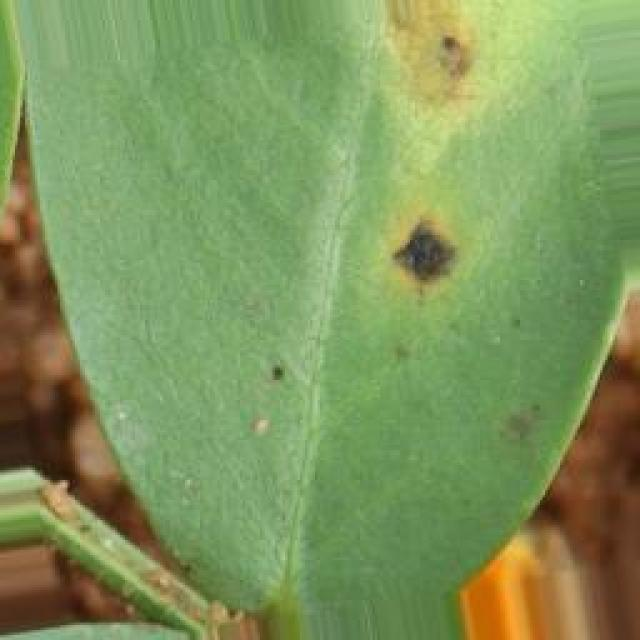Sigatoka: (357, 185, 506, 292), (219, 358, 326, 496), (367, 0, 496, 113), (491, 370, 585, 454)
